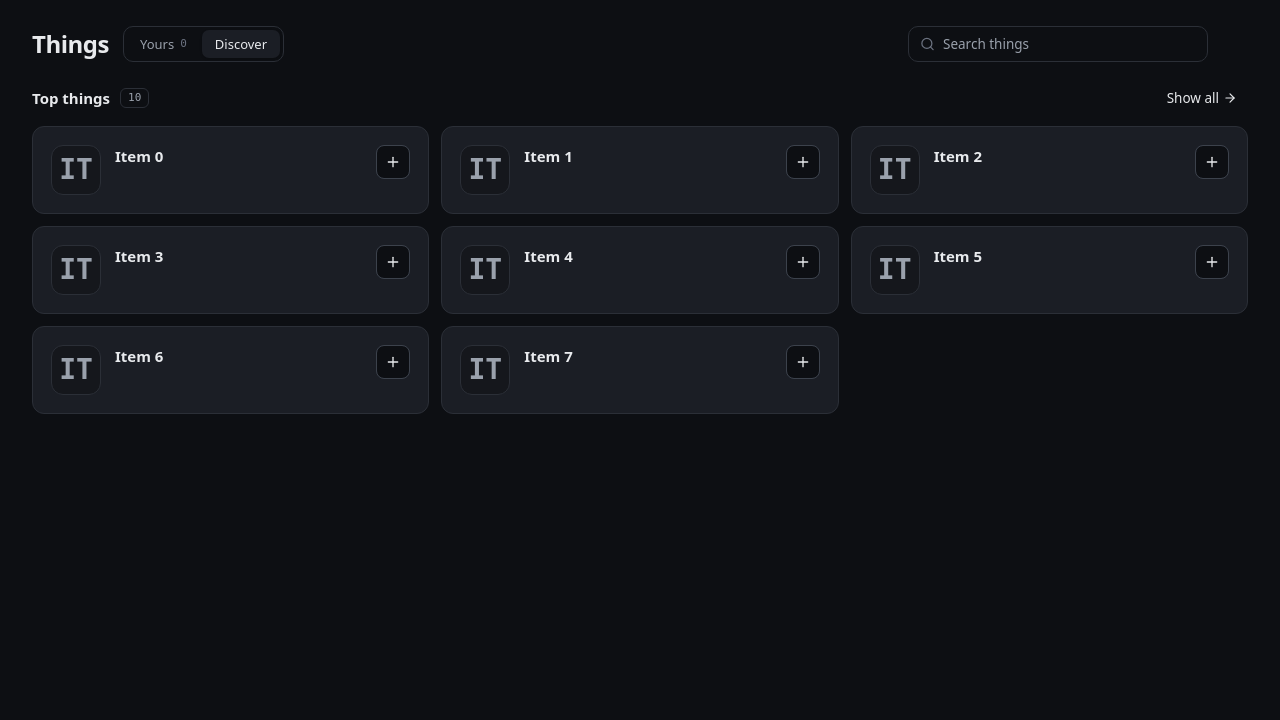
Test case: CatalogLayout › shows eight in Discover until Show all
Click the button "Show all" at (1202, 98), box [1156,84,1248,112]
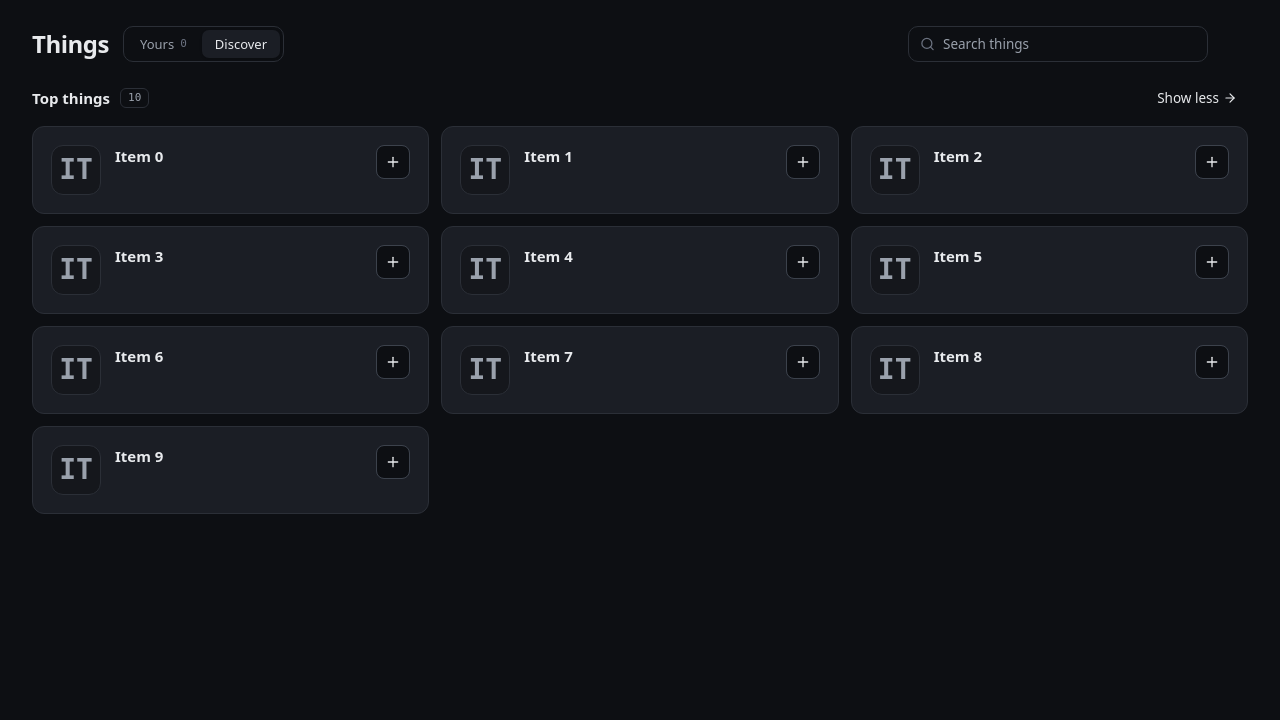
Expected: the button "Show less" is shown, [1146,84,1248,112]
